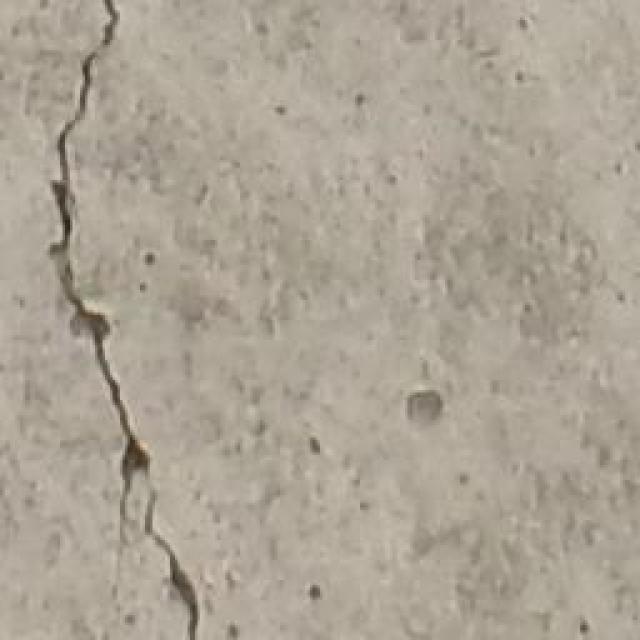concrete-crack: (48, 0, 195, 640)
